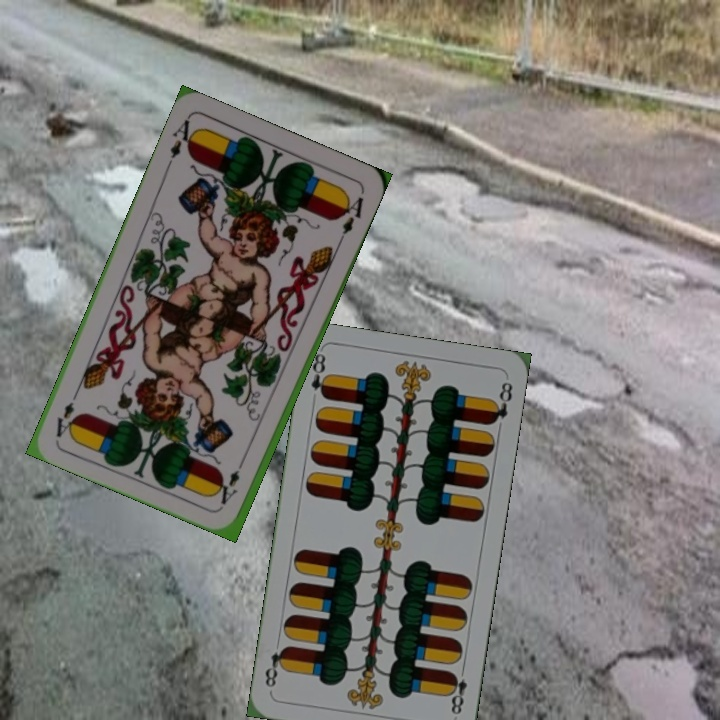E8: (444, 662, 470, 718), (307, 349, 332, 402)
EA: (163, 115, 201, 171), (216, 453, 248, 508)
